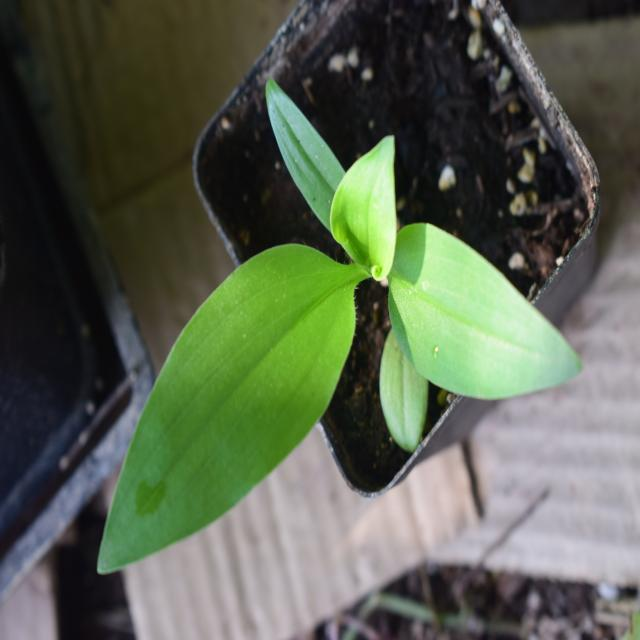Common Dayflower: (67, 104, 584, 576)
